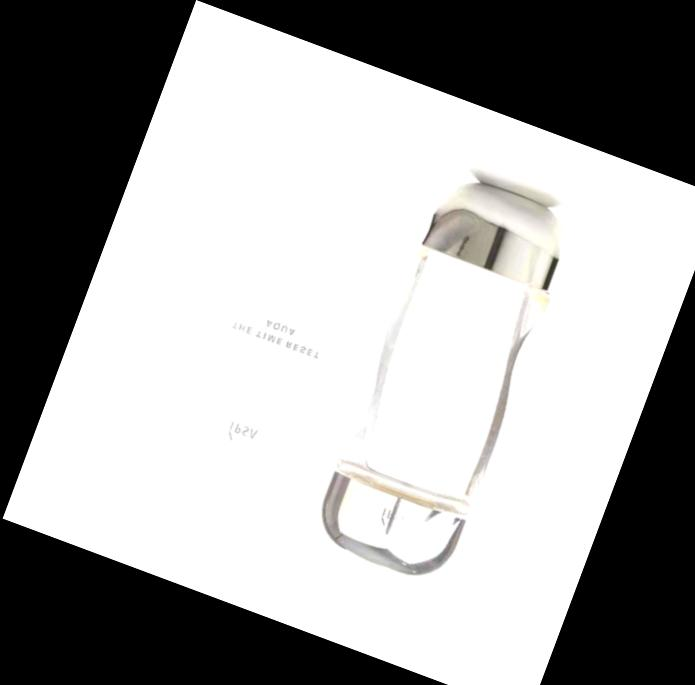cosmetic: (309, 166, 587, 590)
